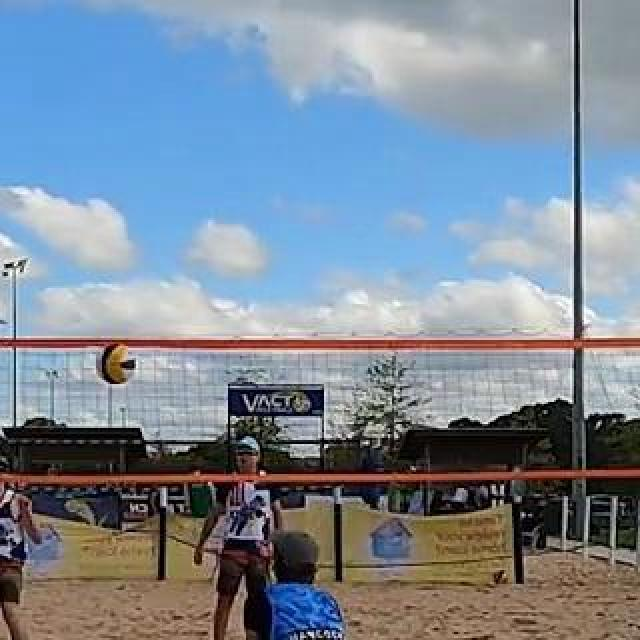volleyball: (98, 343, 136, 387), (492, 569, 508, 585)
